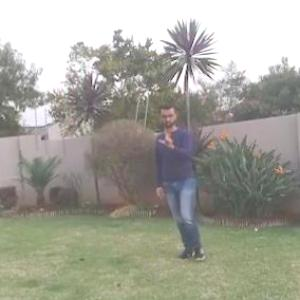land_hand: (159, 125, 178, 152)
